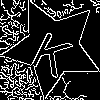K: (28, 22, 79, 79)
